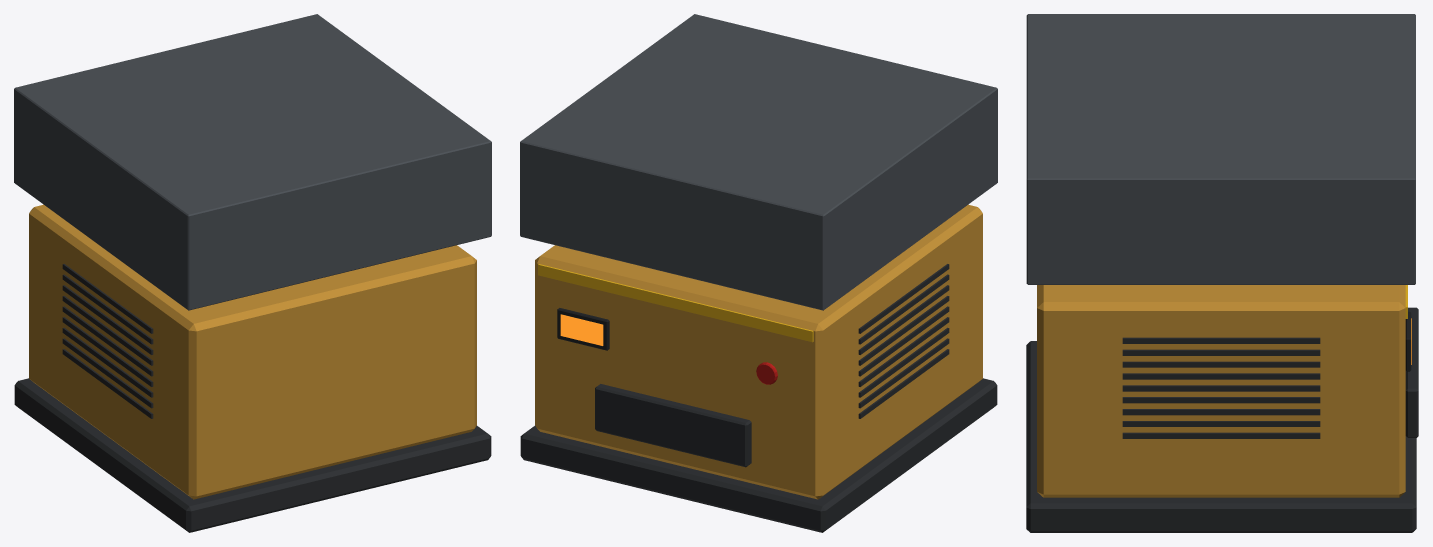
The model's file is scrap_grinder.glb.
The picture shows the model from 3 angles, left to right: view 1: azimuth 30°, elevation 25°; view 2: azimuth 150°, elevation 25°; view 3: azimuth 270°, elevation 25°; orthographic projection. The views are drawn at different scales.
Parts seen in each view (by area): view 1: scrap_grinder; view 2: scrap_grinder; view 3: scrap_grinder.
Part boxes in pixels (bbox=[...]): scrap_grinder: bbox=[14, 14, 491, 532]; scrap_grinder: bbox=[520, 14, 997, 532]; scrap_grinder: bbox=[1026, 14, 1418, 532].
Size of the model in its own units: 1.8 by 1.8 by 1.8.
